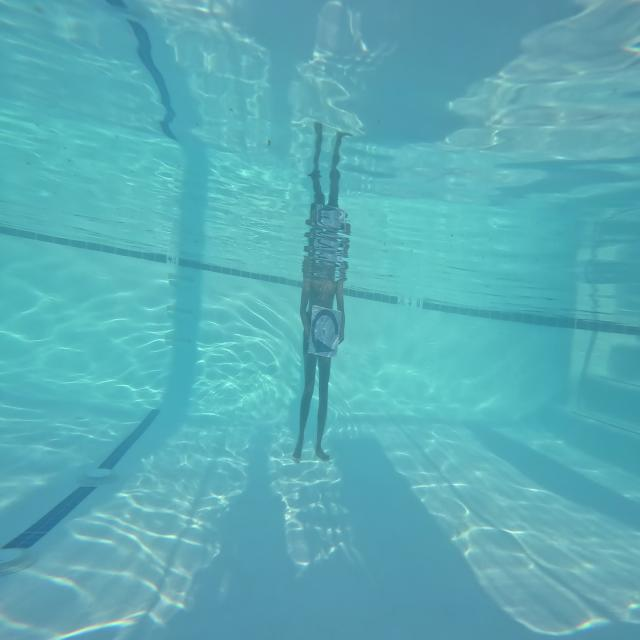blue_side: (307, 302, 341, 360)
